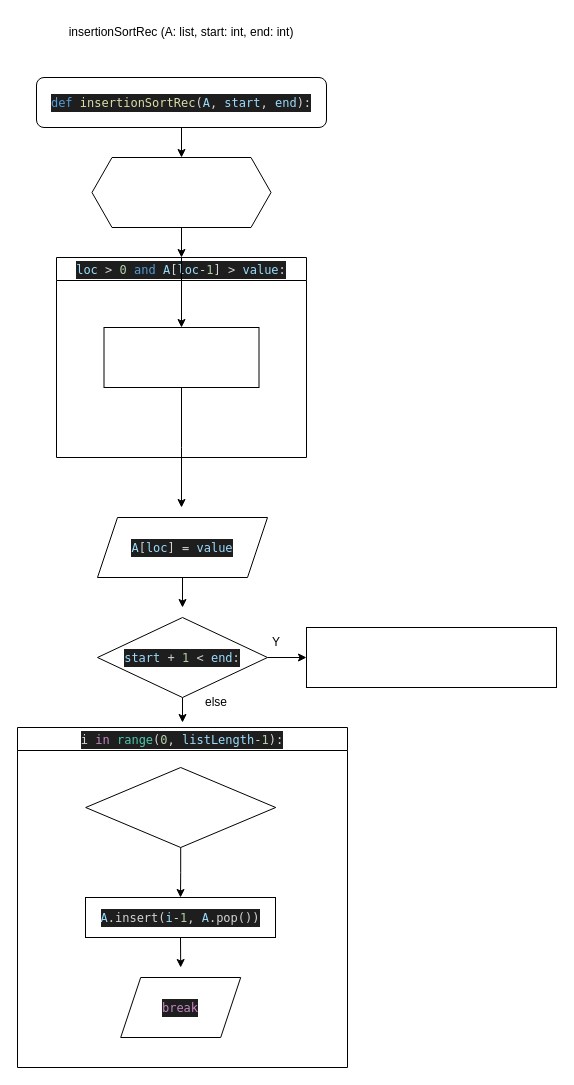
Image size: 574x1085. Some labels were removed from this diagram. The centre of each missing label's shape, as x and y in pixels:
"A [ i ] > A [ listLength - 1 ]:" belongs at pixel 180 807.
"A [ loc ] = A [ loc - 1 ] loc -= 1" belongs at pixel 181 357.
"insertionSortRec ( A , start + 1 , end )" belongs at pixel 431 657.
"value = A [ start ] loc = start" belongs at pixel 181 192.
